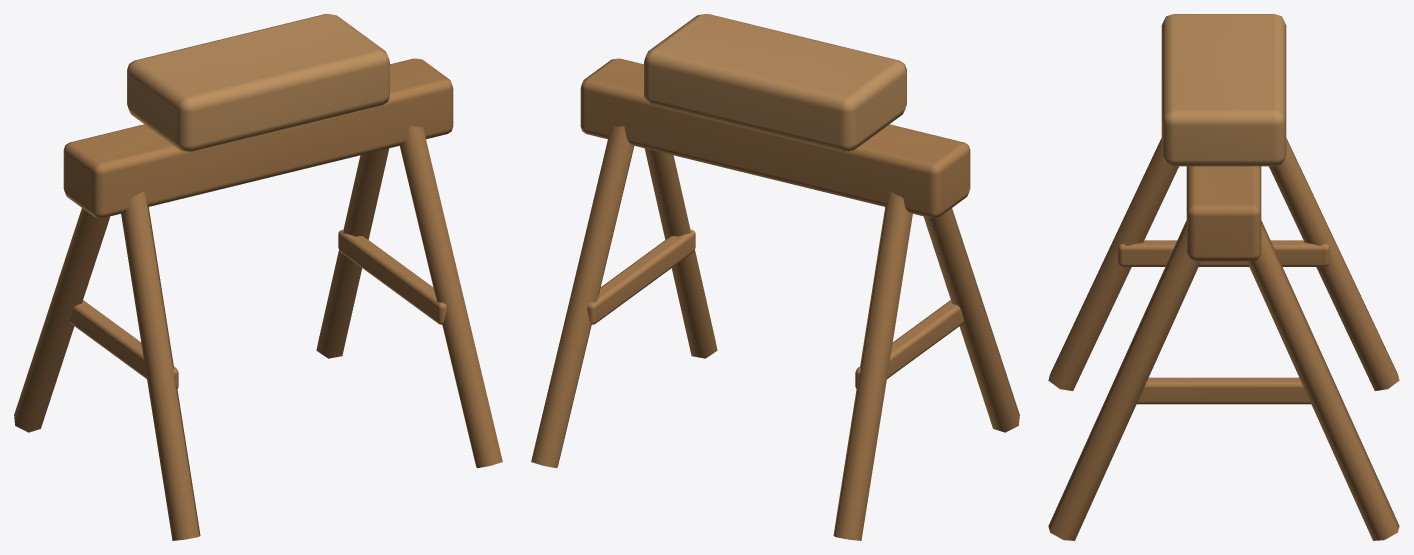
Rendered from furn_sawhorse.glb.
The picture shows the model from 3 angles, left to right: view 1: azimuth 30°, elevation 25°; view 2: azimuth 150°, elevation 25°; view 3: azimuth 270°, elevation 25°; orthographic projection. The views are drawn at different scales.
Parts seen in each view (by area): view 1: furn_sawhorse_main; view 2: furn_sawhorse_main; view 3: furn_sawhorse_main.
Part boxes in pixels (x1,y1,x2,y2): furn_sawhorse_main: [14, 14, 502, 540]; furn_sawhorse_main: [531, 14, 1019, 540]; furn_sawhorse_main: [1048, 14, 1399, 540].
Bounding box in the file's own units: 0.68 × 0.7084 × 0.5625.
